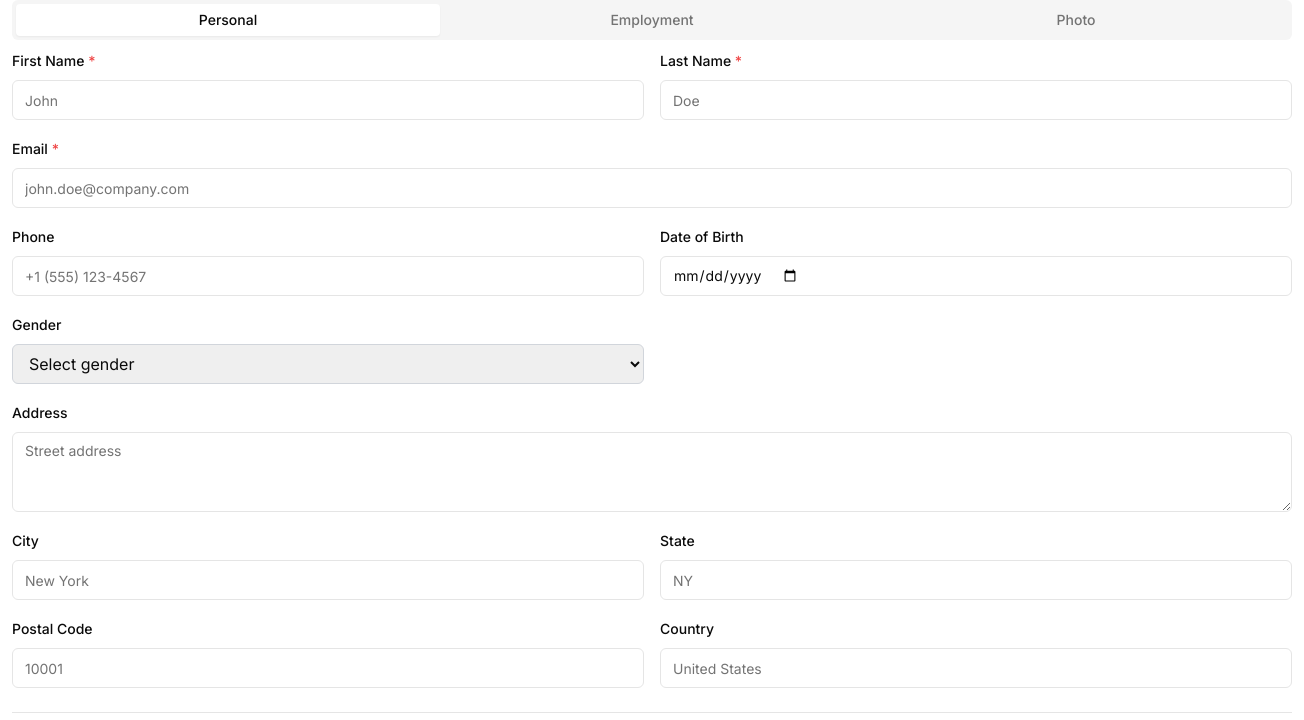
it: EmployeeForm › Tab Navigation › should switch between tabs
Click the tab "Employment".
click(652, 20)  # box [440,4,864,36]
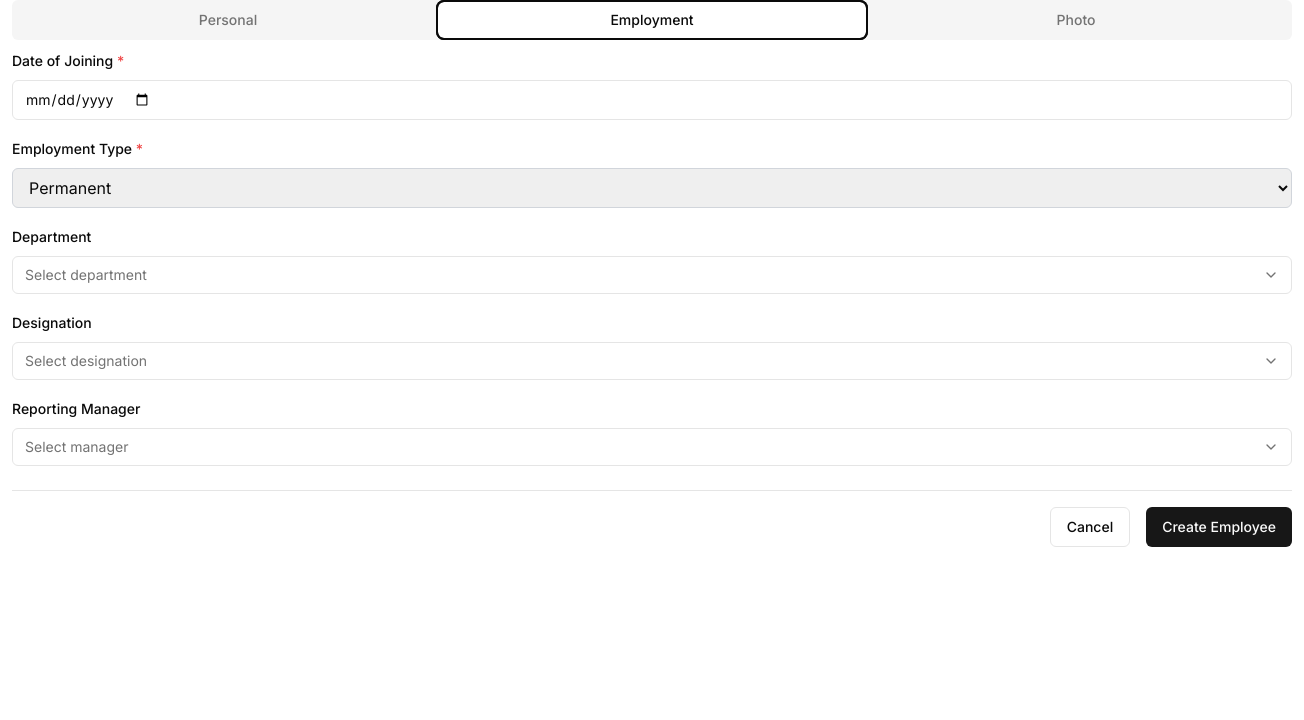
Expected: the date field labelled "Date of Joining *" is shown, [12,80,1292,120]
